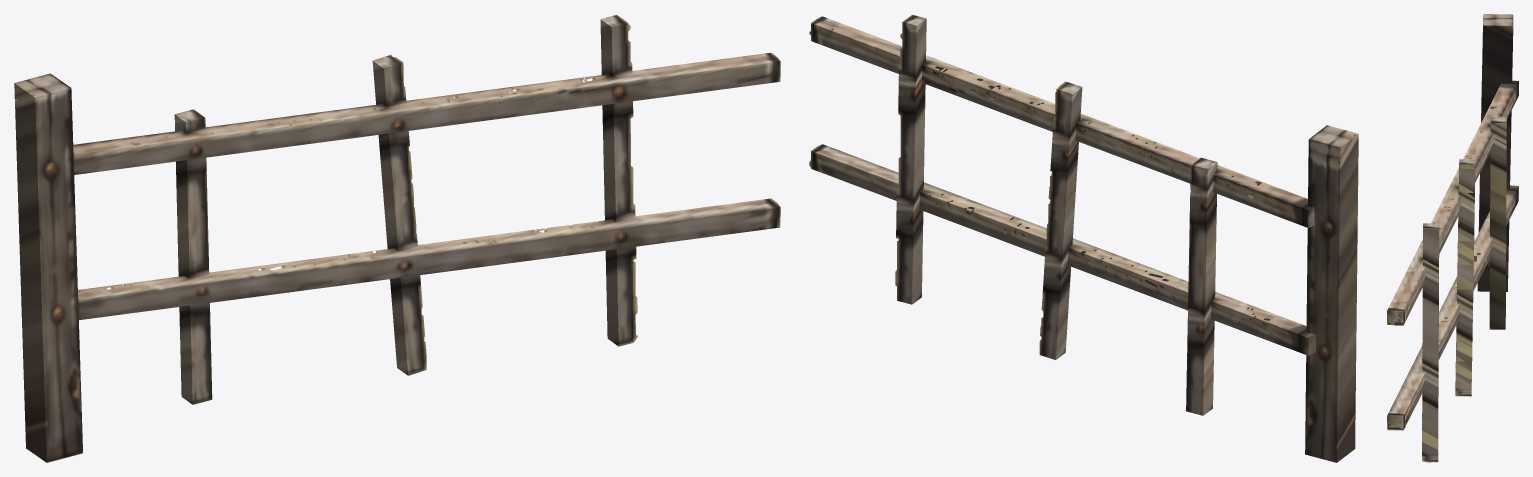
Rendered from fence_06.glb.
3 views of the same model, side by side, from view 1: azimuth 30°, elevation 25°; view 2: azimuth 150°, elevation 25°; view 3: azimuth 270°, elevation 25° (orthographic). The views are drawn at different scales.
Parts seen in each view (by area): view 1: fence_06_game; view 2: fence_06_game; view 3: fence_06_game.
Part boxes in pixels (x1,y1,x2,y2): fence_06_game: (14,15,780,462); fence_06_game: (809,14,1358,462); fence_06_game: (1387,14,1518,462).
Bounding box in the file's own units: 2.45 × 1.26 × 0.5685.
1 material, 1 textured.
